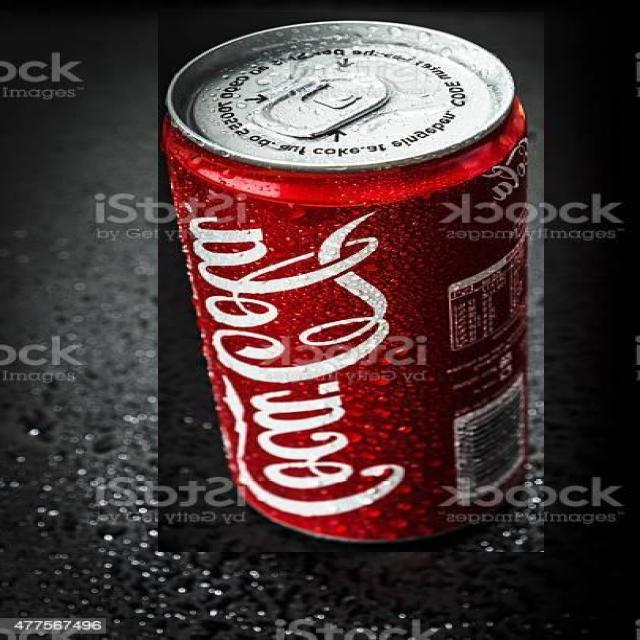coca-cola: (158, 12, 544, 552)
